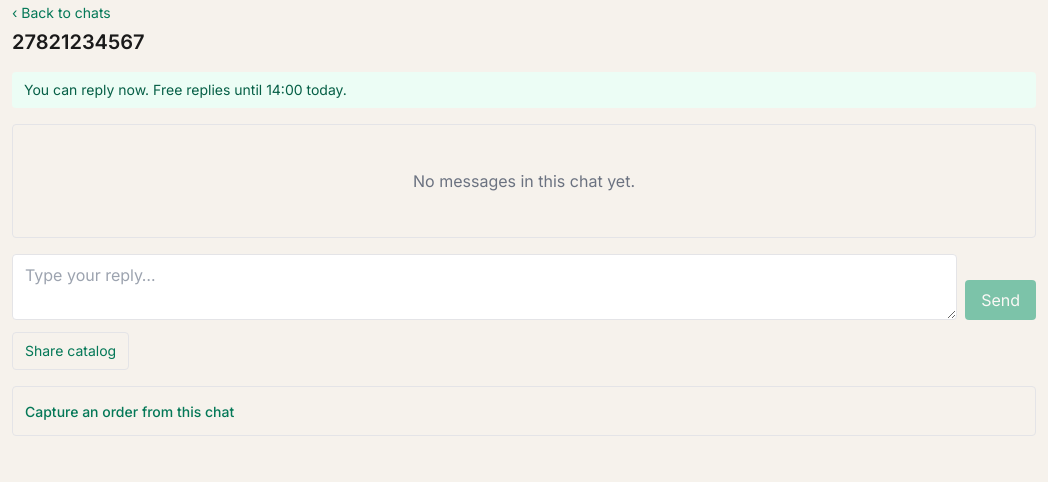
Scenario: ThreadPage › a 200-with-error marks the optimistic bubble FAILED with a retry
In the text box with placeholder "Type your reply…": (485, 287) [12, 254, 957, 320], type "Hi"
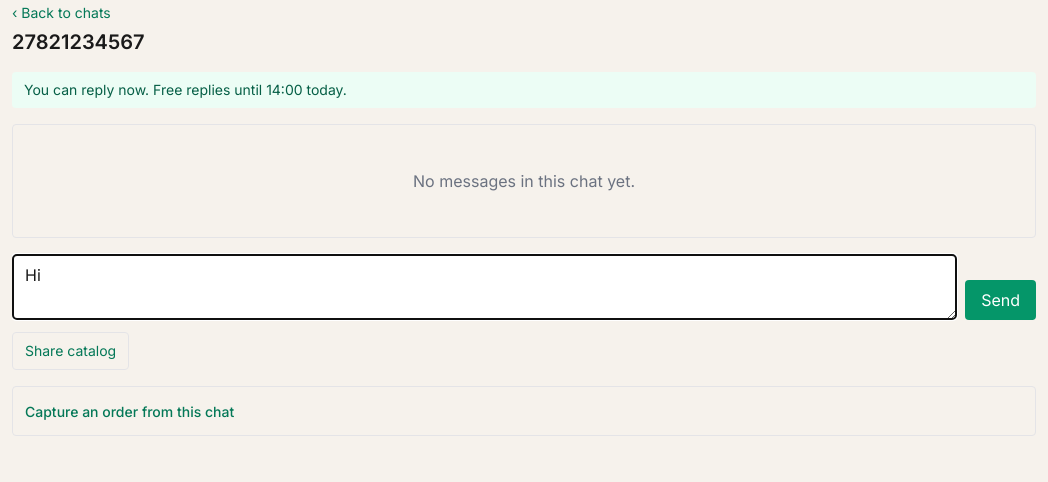
Click the button "Send": (1001, 300) [965, 280, 1036, 320]
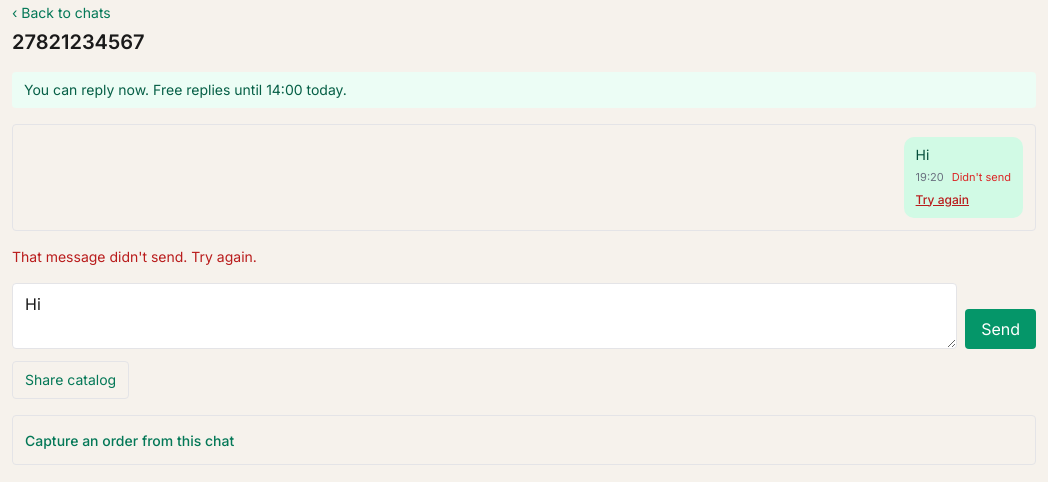
Expected: the text "Hi" is shown, [916, 146, 929, 163]
Expected: the text "Didn't send" is shown, [952, 169, 1011, 186]
Expected: the button "Try again" is shown, [916, 192, 969, 208]
